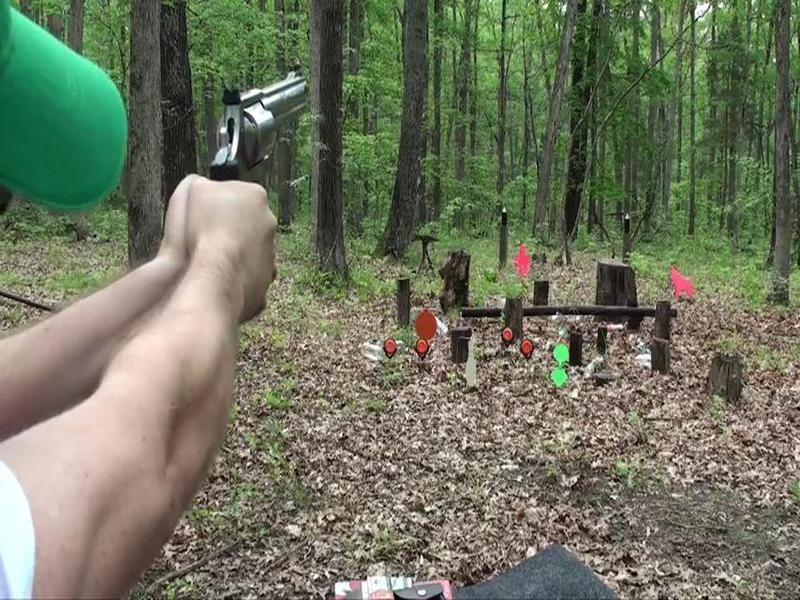Revolver: (204, 50, 318, 192)
